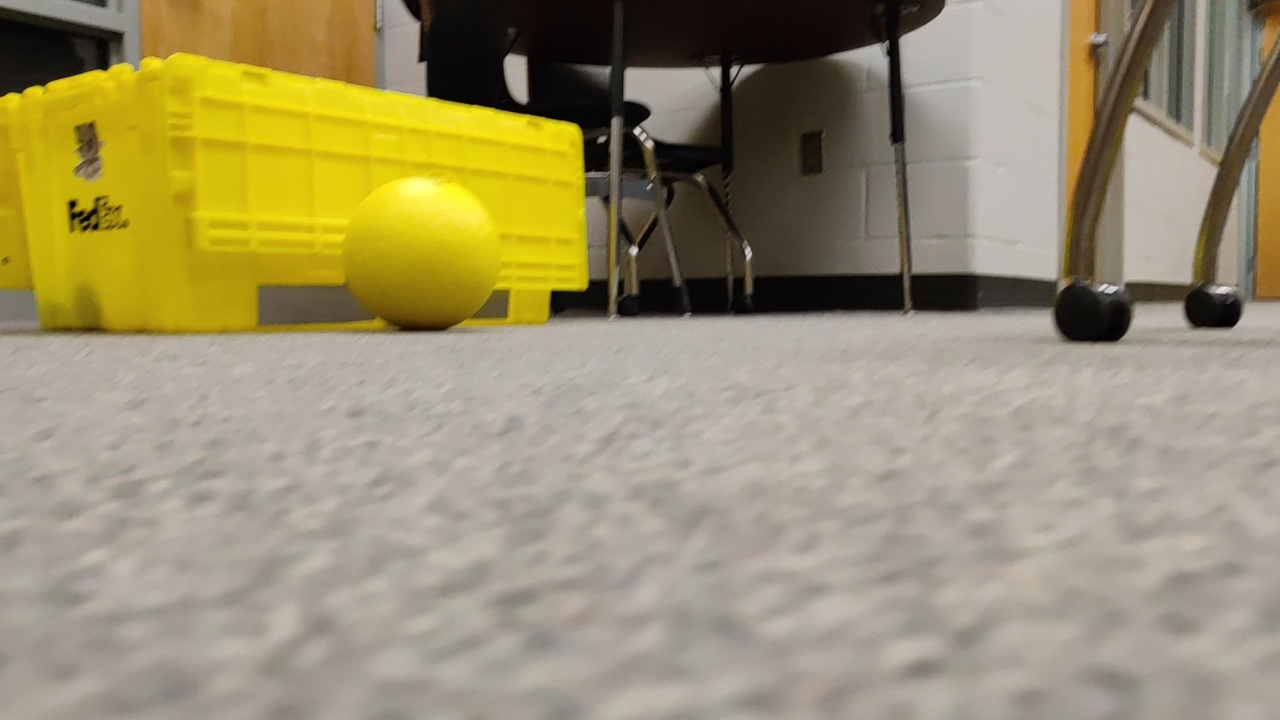Ball: (339, 179, 506, 333)
